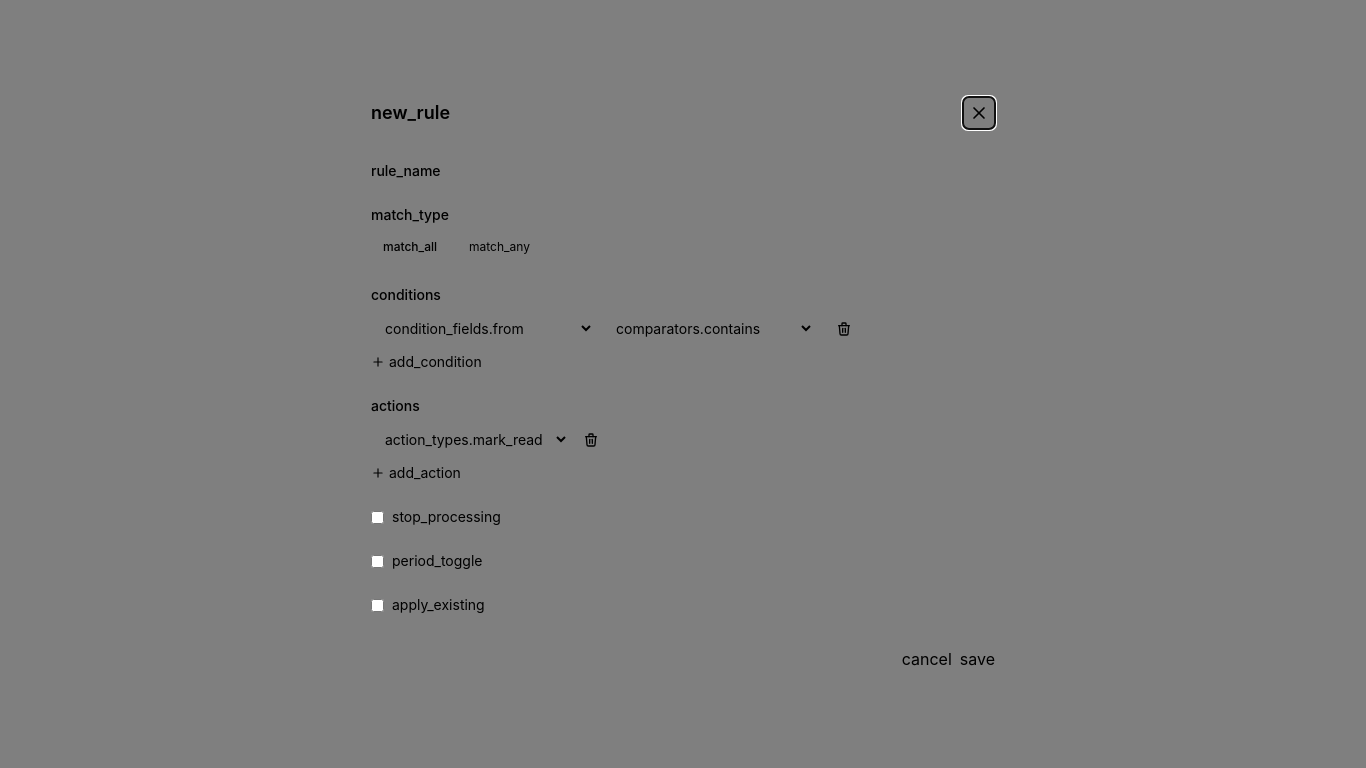
Test: filter rule period (dialog) › does not run a rule with a period on existing messages
Check: the checkbox labelled "apply_existing" is enabled, box [371, 598, 384, 612]
Click the checkbox labelled "period_toggle".
click(378, 561)  # box [371, 554, 384, 568]
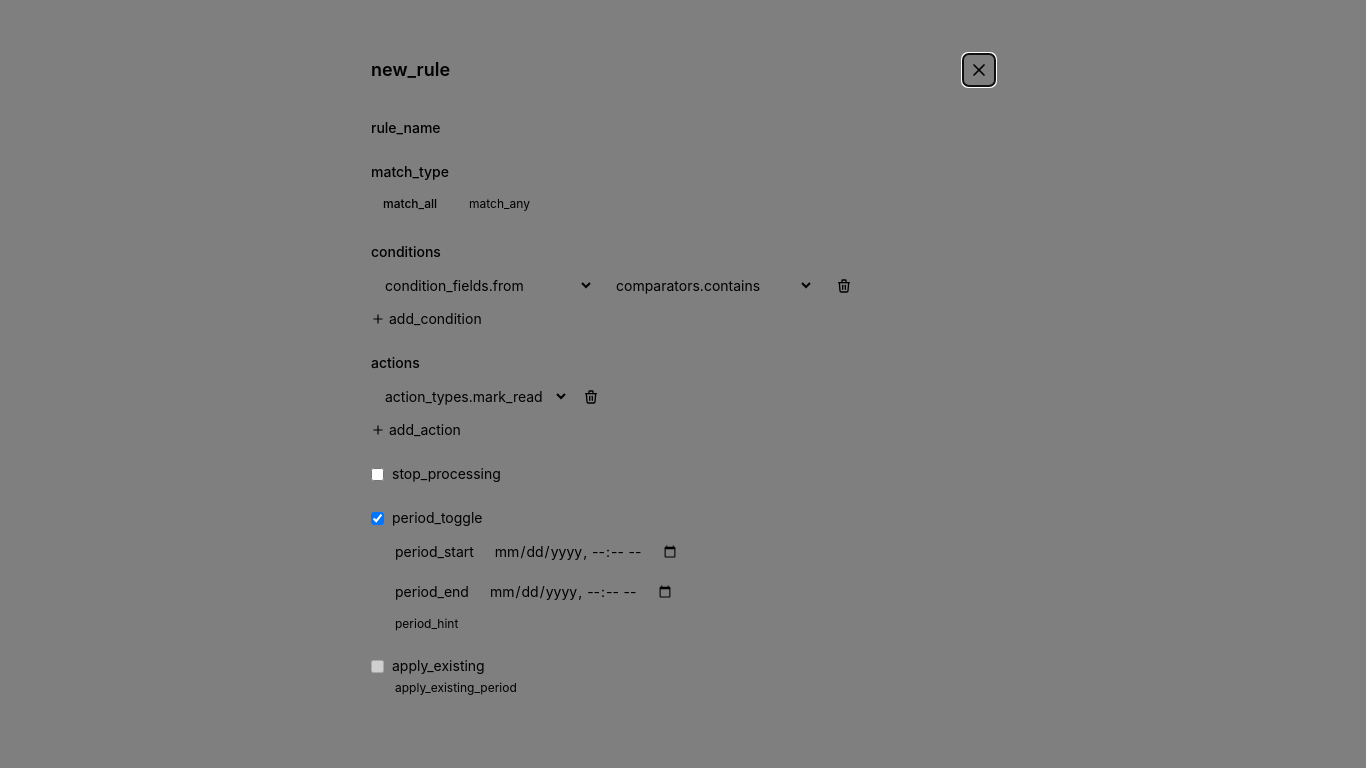
Check: the checkbox labelled "apply_existing" is disabled, box [371, 660, 384, 673]
Check: the text "apply_existing_period" is shown, box [395, 680, 517, 695]
